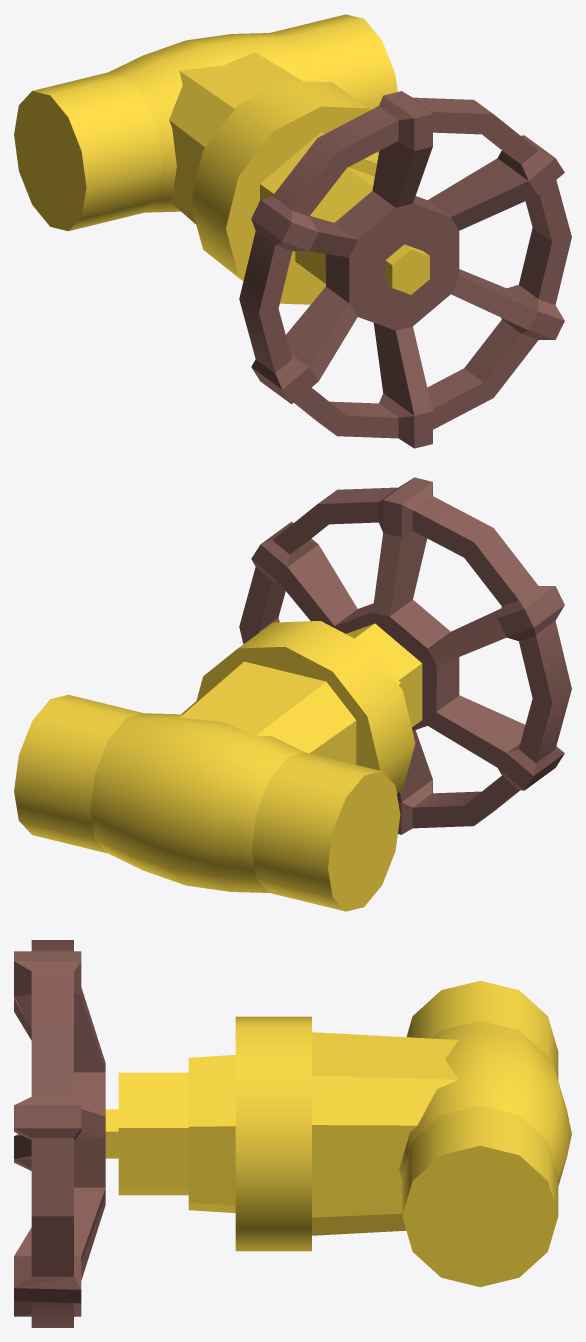
The model's file is COP_D30_E.FBX.
The picture shows the model from 3 angles, top to bottom: view 1: azimuth 30°, elevation 25°; view 2: azimuth 150°, elevation 25°; view 3: azimuth 270°, elevation 25°; orthographic projection. The views are drawn at different scales.
Visible parts, largest first — view 1: COP_D30_E; view 2: COP_D30_E; view 3: COP_D30_E.
Boxes of the visible parts, x1=… form: COP_D30_E: x1=14, y1=14, x2=571, y2=448; COP_D30_E: x1=14, y1=477, x2=571, y2=911; COP_D30_E: x1=14, y1=940, x2=571, y2=1327.
Bounding box in the file's own units: 10 × 10.05 × 14.3.
